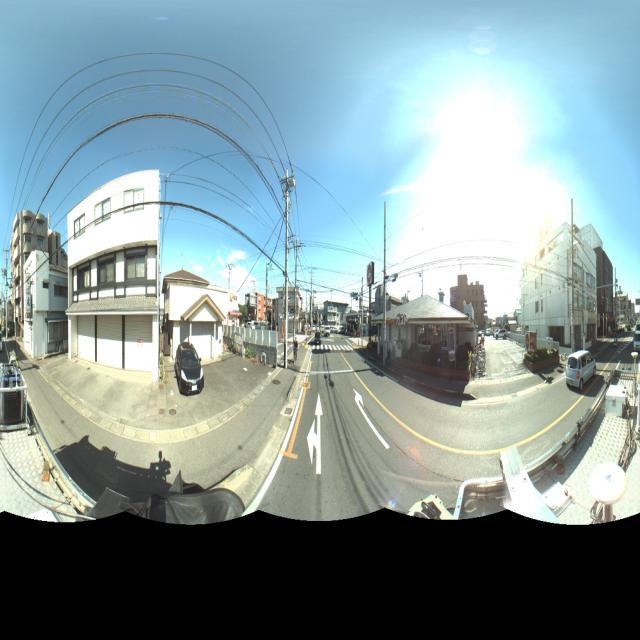b_1: (67, 158, 164, 388), (517, 225, 596, 352), (162, 264, 231, 368), (27, 250, 72, 372), (7, 218, 26, 334), (594, 248, 616, 346), (276, 283, 308, 345), (246, 287, 276, 346), (22, 202, 52, 257)
